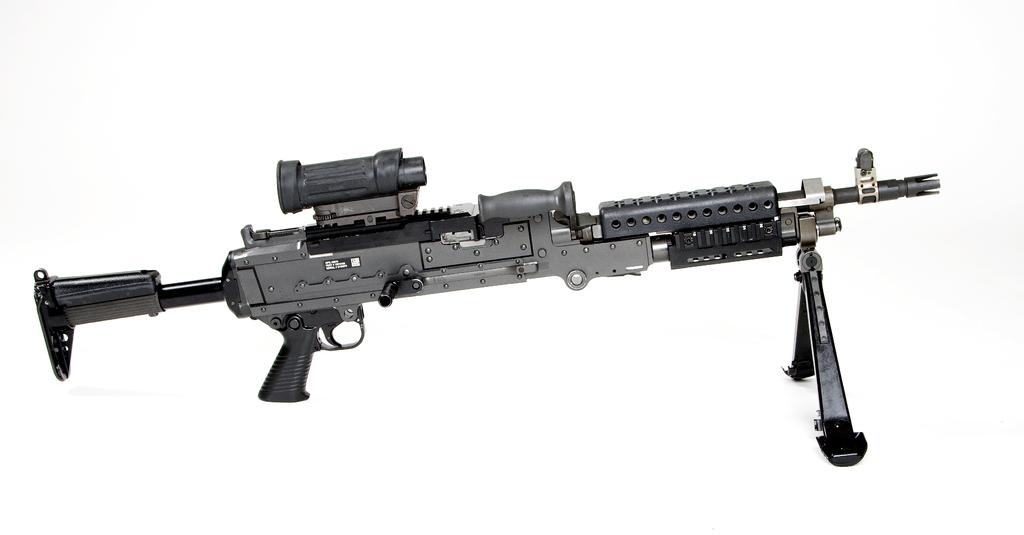Rifle: (36, 151, 934, 466)
